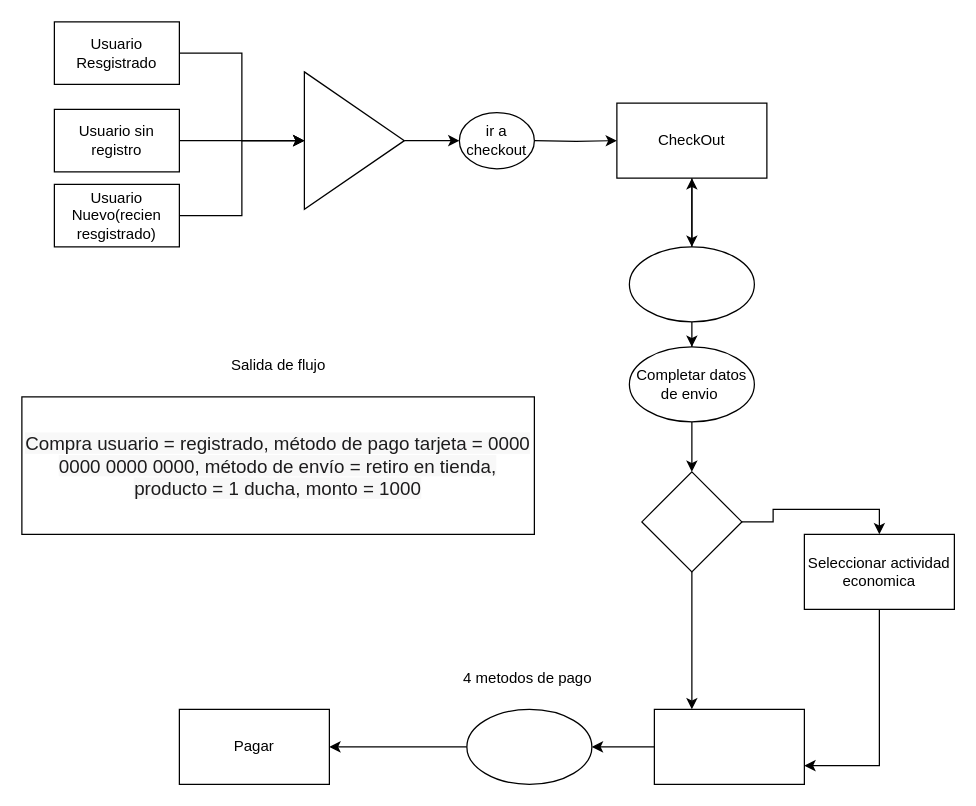
Some shapes in this 976 by 806 pixel diagram are drawn without their labels. Each missing label, with the centre of its shape:
agregar un producto: the point at 353,140
completar datos de usario: the point at 691,284
Facturacion (Si/NO): the point at 691,521
Ir a pagar: the point at 728,746
seleccionar metodo de pago: the point at 529,746
